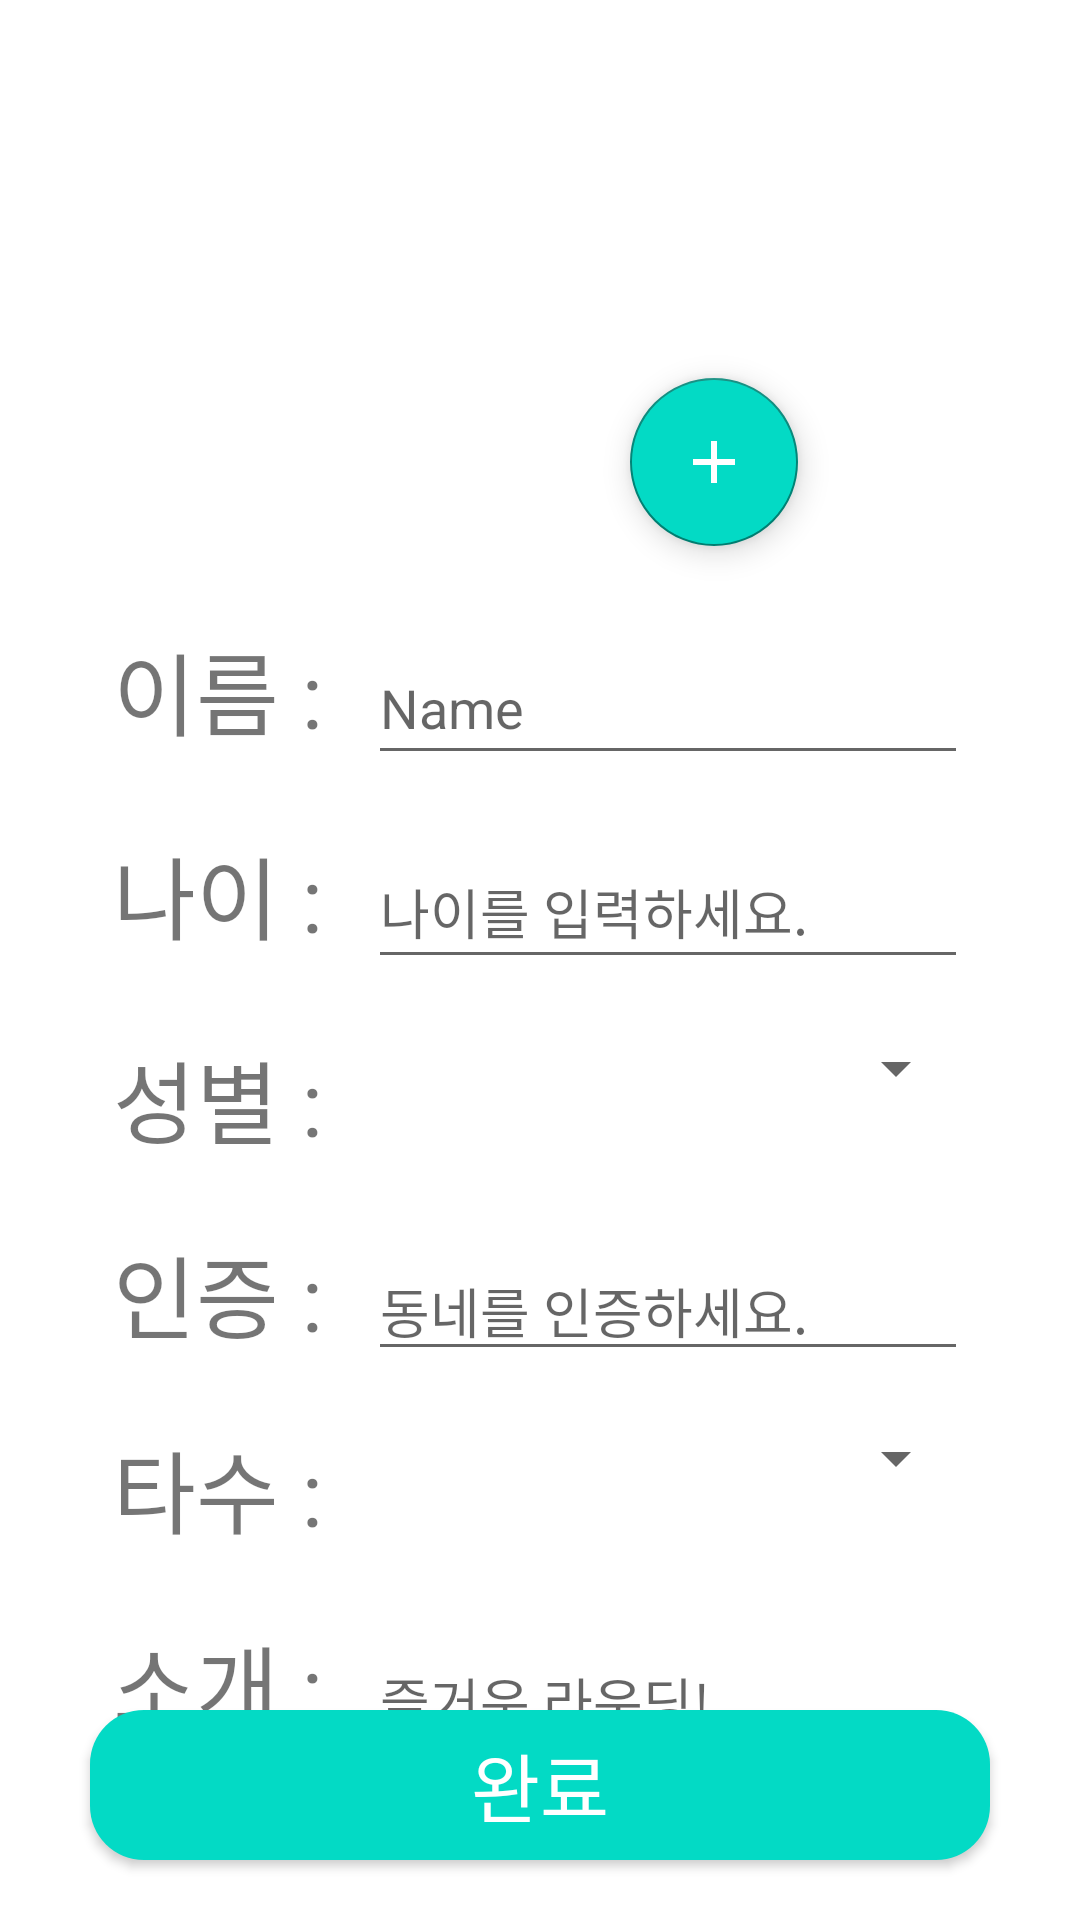

Icons on this 1080×1920 Android screen, each with the point to tap as [x,y]:
add: [714,462]
